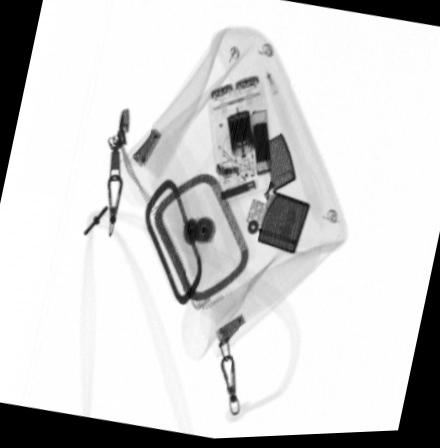Lighter: (244, 135, 310, 257)
